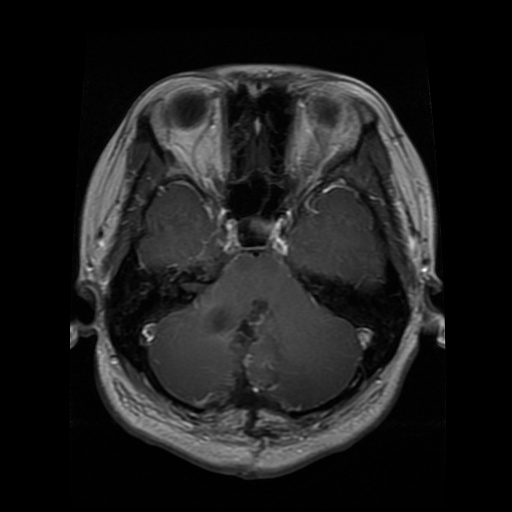glioma: (201, 295, 285, 389)
